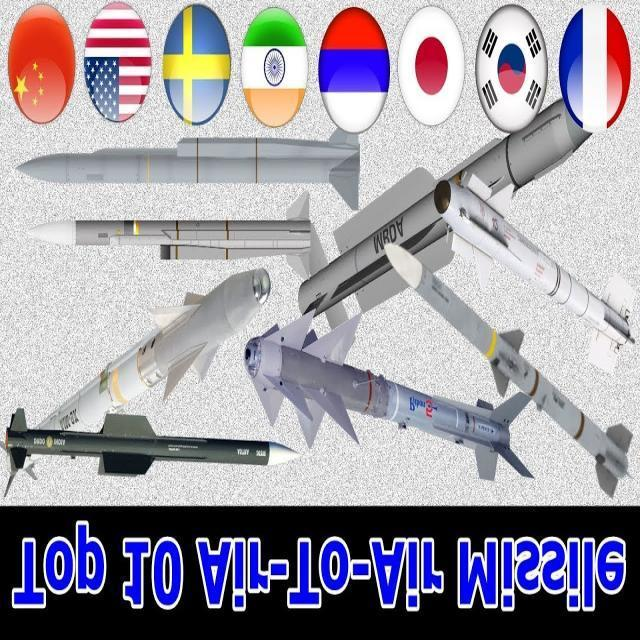missile: (11, 119, 372, 205), (3, 411, 305, 505), (0, 406, 302, 500), (7, 213, 327, 273)
